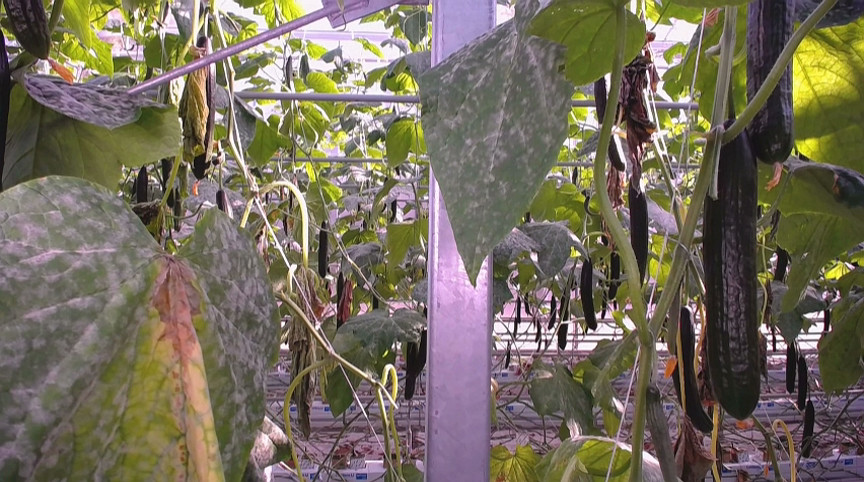cucumber: (705, 121, 762, 424), (746, 1, 797, 165), (593, 78, 628, 173), (2, 1, 51, 59), (627, 176, 648, 288), (579, 258, 599, 332), (802, 400, 820, 460), (403, 342, 418, 400), (316, 218, 329, 282), (784, 342, 797, 394), (798, 355, 810, 409)
